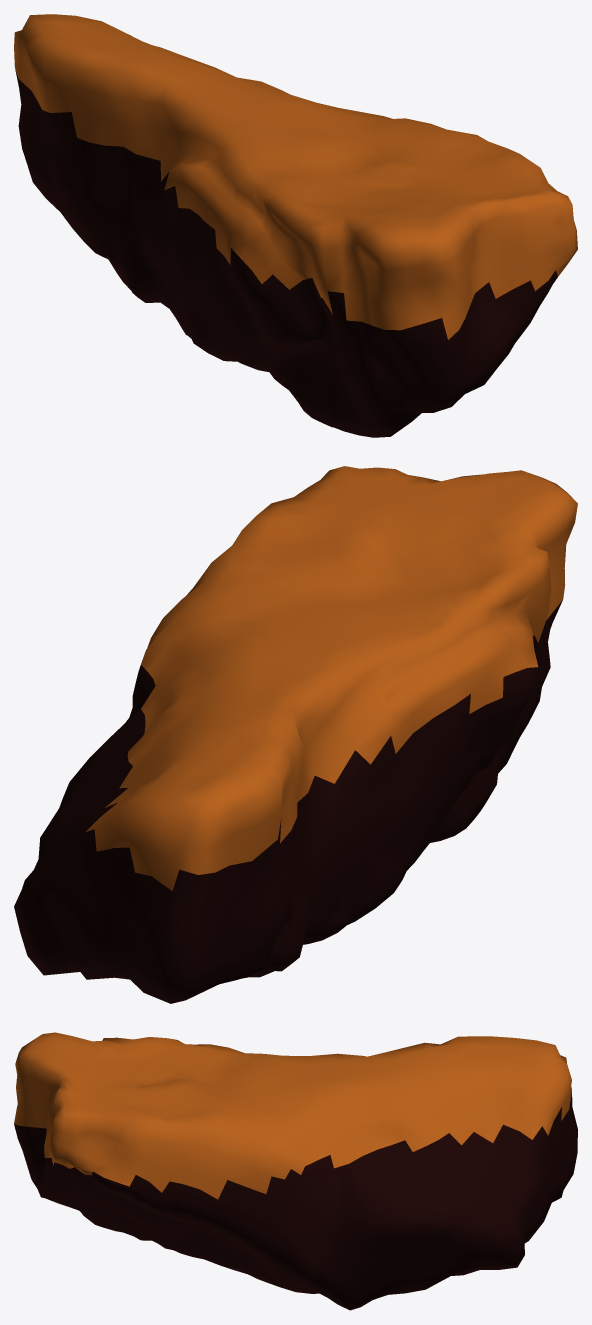
File: PlatformerStone.FBX
3 renders of one model, top to bottom at view 1: azimuth 30°, elevation 25°; view 2: azimuth 150°, elevation 25°; view 3: azimuth 270°, elevation 25°, orthographic. The views are drawn at different scales.
Parts seen in each view (by area): view 1: StoneTop, StoneBottom; view 2: StoneTop, StoneBottom; view 3: StoneTop, StoneBottom.
Boxes of the visible parts, x1,y1,x2,y2 form: StoneTop: (14,14,577,339); StoneBottom: (15,69,557,437); StoneTop: (86,466,577,890); StoneBottom: (14,600,562,1003); StoneTop: (14,1032,571,1199); StoneBottom: (14,1092,577,1310).
Bounding box in the file's own units: 16.96 × 16.13 × 37.98.
